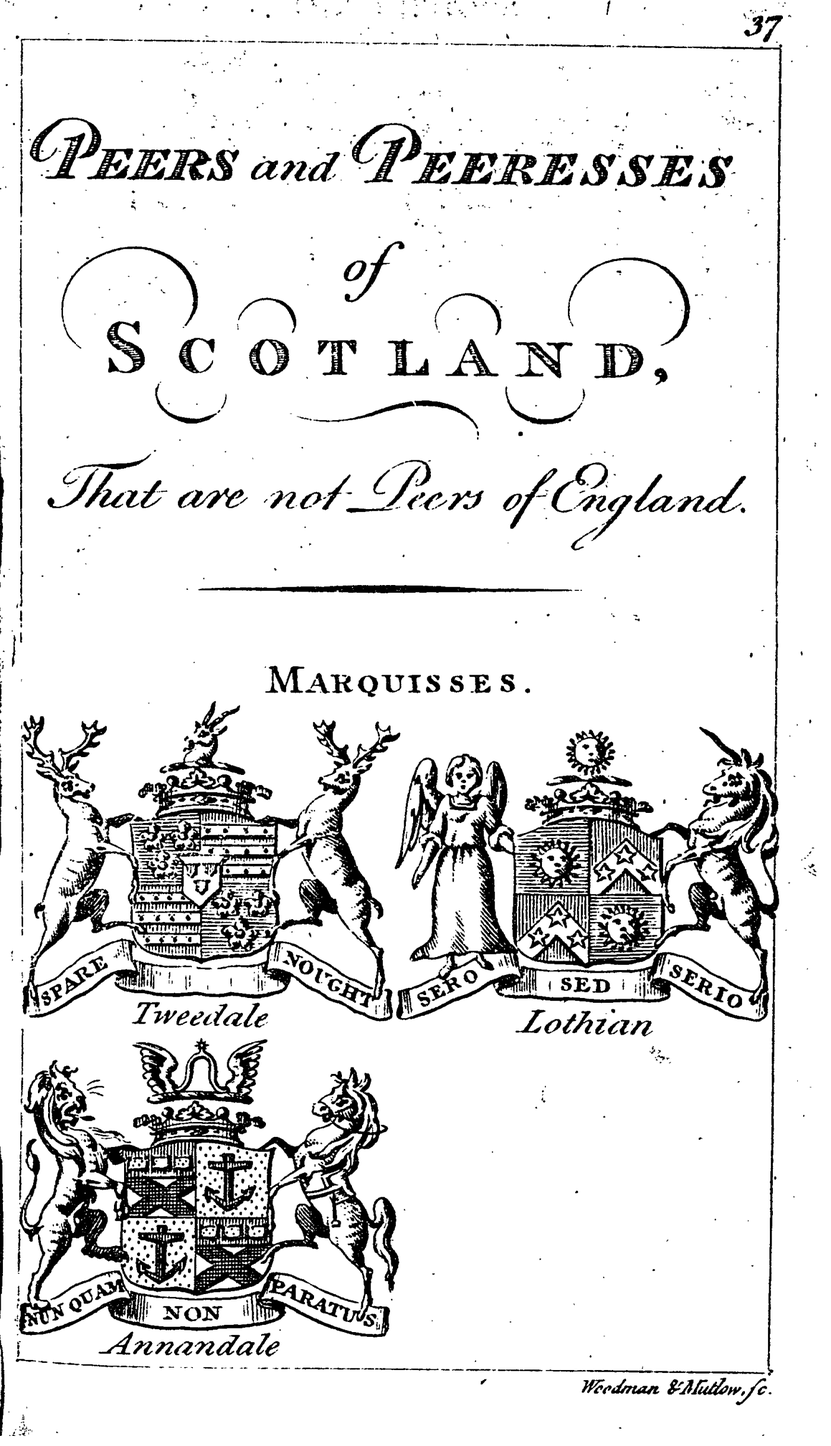coat_of_arms: (391, 693, 766, 1049), (32, 697, 394, 1041), (26, 1043, 401, 1358)
